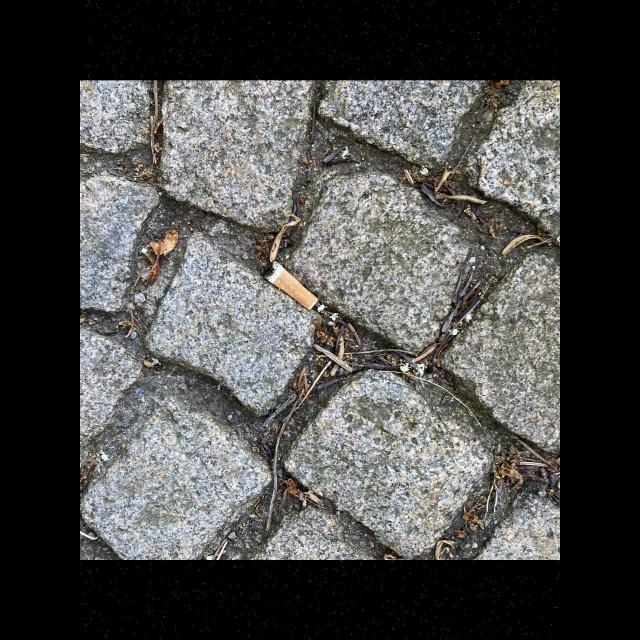cigarette: (263, 260, 318, 310)
